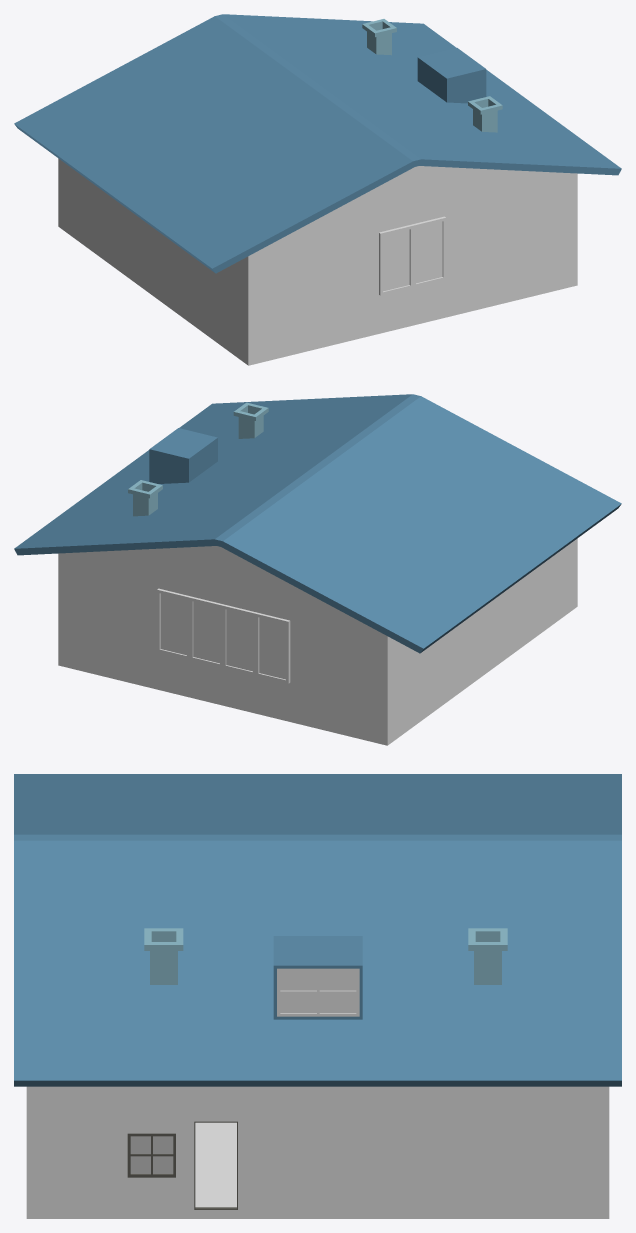
The model's file is room (1).fbx.
The picture shows the model from 3 angles, top to bottom: view 1: azimuth 30°, elevation 25°; view 2: azimuth 150°, elevation 25°; view 3: azimuth 270°, elevation 25°; orthographic projection. The views are drawn at different scales.
Visible parts, largest first — view 1: roof, room, window_frame.001, rooftop, chimney; view 2: roof, room, window_frame.001, rooftop, chimney; view 3: roof, room, chimney, rooftop, rooftop_window_glass, window, rooftop_window_frame.
Part boxes in pixels (x1,y1,x2,y2): roof: (14, 14, 621, 273); room: (58, 158, 577, 365); window_frame.001: (379, 216, 446, 295); rooftop: (417, 48, 486, 103); chimney: (362, 19, 502, 132); roof: (14, 394, 621, 653); room: (58, 538, 577, 745); window_frame.001: (157, 588, 290, 683); rooftop: (149, 428, 217, 483); chimney: (128, 402, 268, 516); roof: (14, 774, 621, 1086); room: (26, 1086, 609, 1218); chimney: (144, 928, 507, 984); rooftop: (273, 936, 362, 1019); rooftop_window_glass: (280, 971, 356, 1012); window: (127, 1133, 175, 1177); rooftop_window_frame: (277, 968, 359, 1016).
Size of the model in its own units: 1494 by 587 by 1252.
